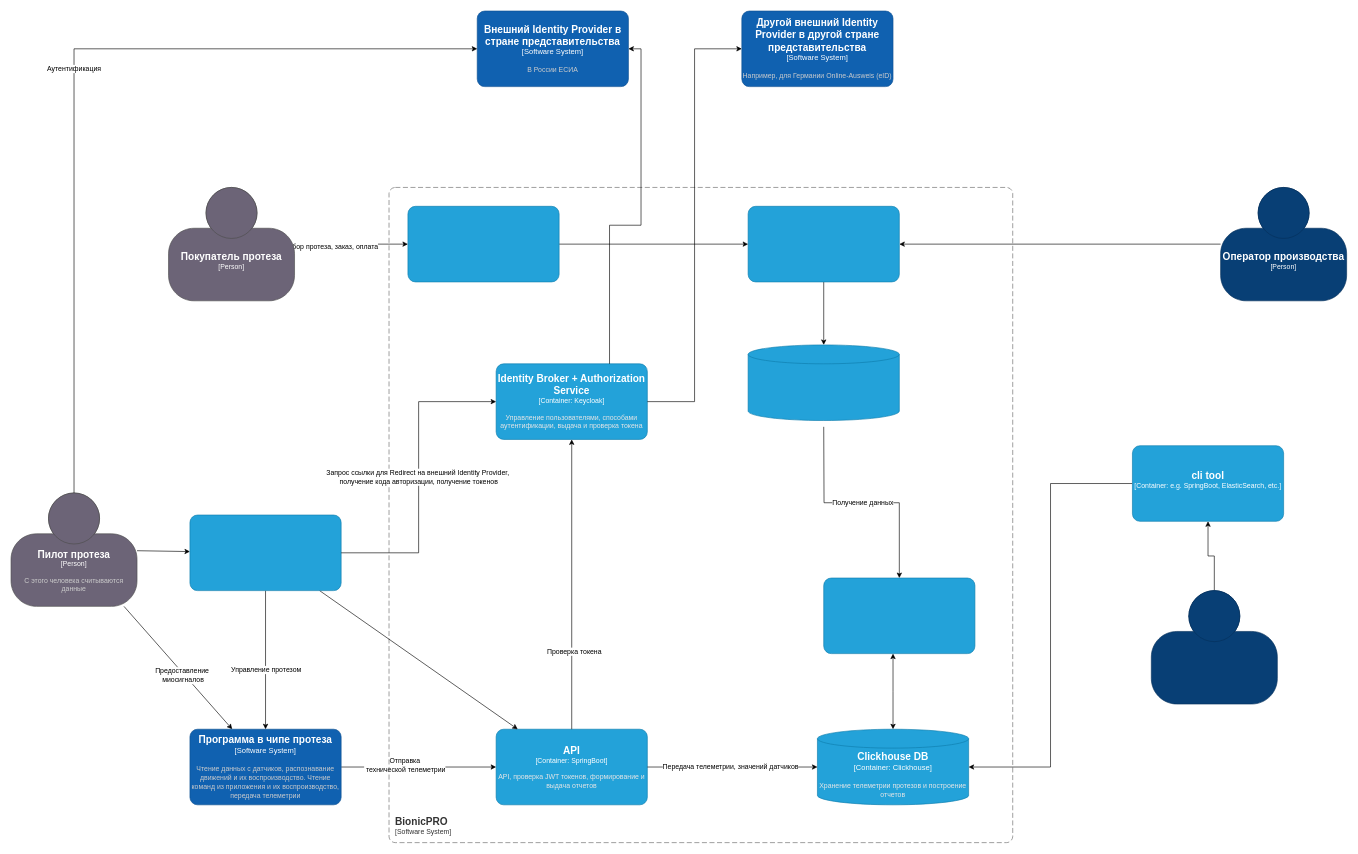
The diagram is 1358 pixels wide and 854 high, and some of its shapes have lost their labels. The centre of each missing label's shape, as x and y in pixels:
"CRM [Container: Битрикс24]" belongs at (x=823, y=244).
"CRM DB [Container: e.g. Oracle Database 12]" belongs at (x=823, y=382).
"ETL Component [Container: Apache Airflow] Формирование отчетов и витрин" belongs at (x=899, y=615).
"ML-инженер [Person]" belongs at (x=1214, y=647).
"Интернет-магазин [Container: Битрикс24]" belongs at (x=483, y=244).
"Приложение для донастройки протеза [Container: iOS, Android]" belongs at (x=265, y=552).
